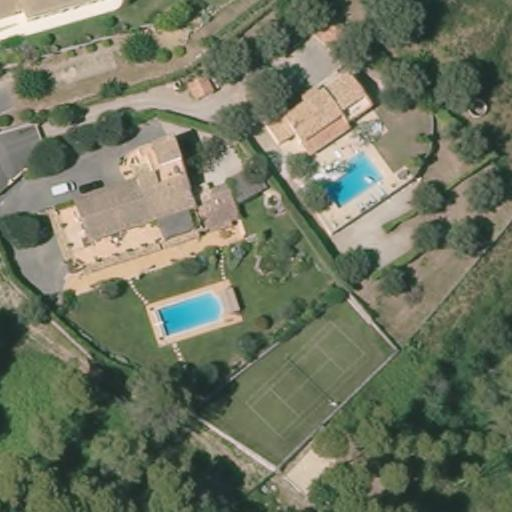pool: (314, 147, 382, 208), (148, 290, 227, 341)
